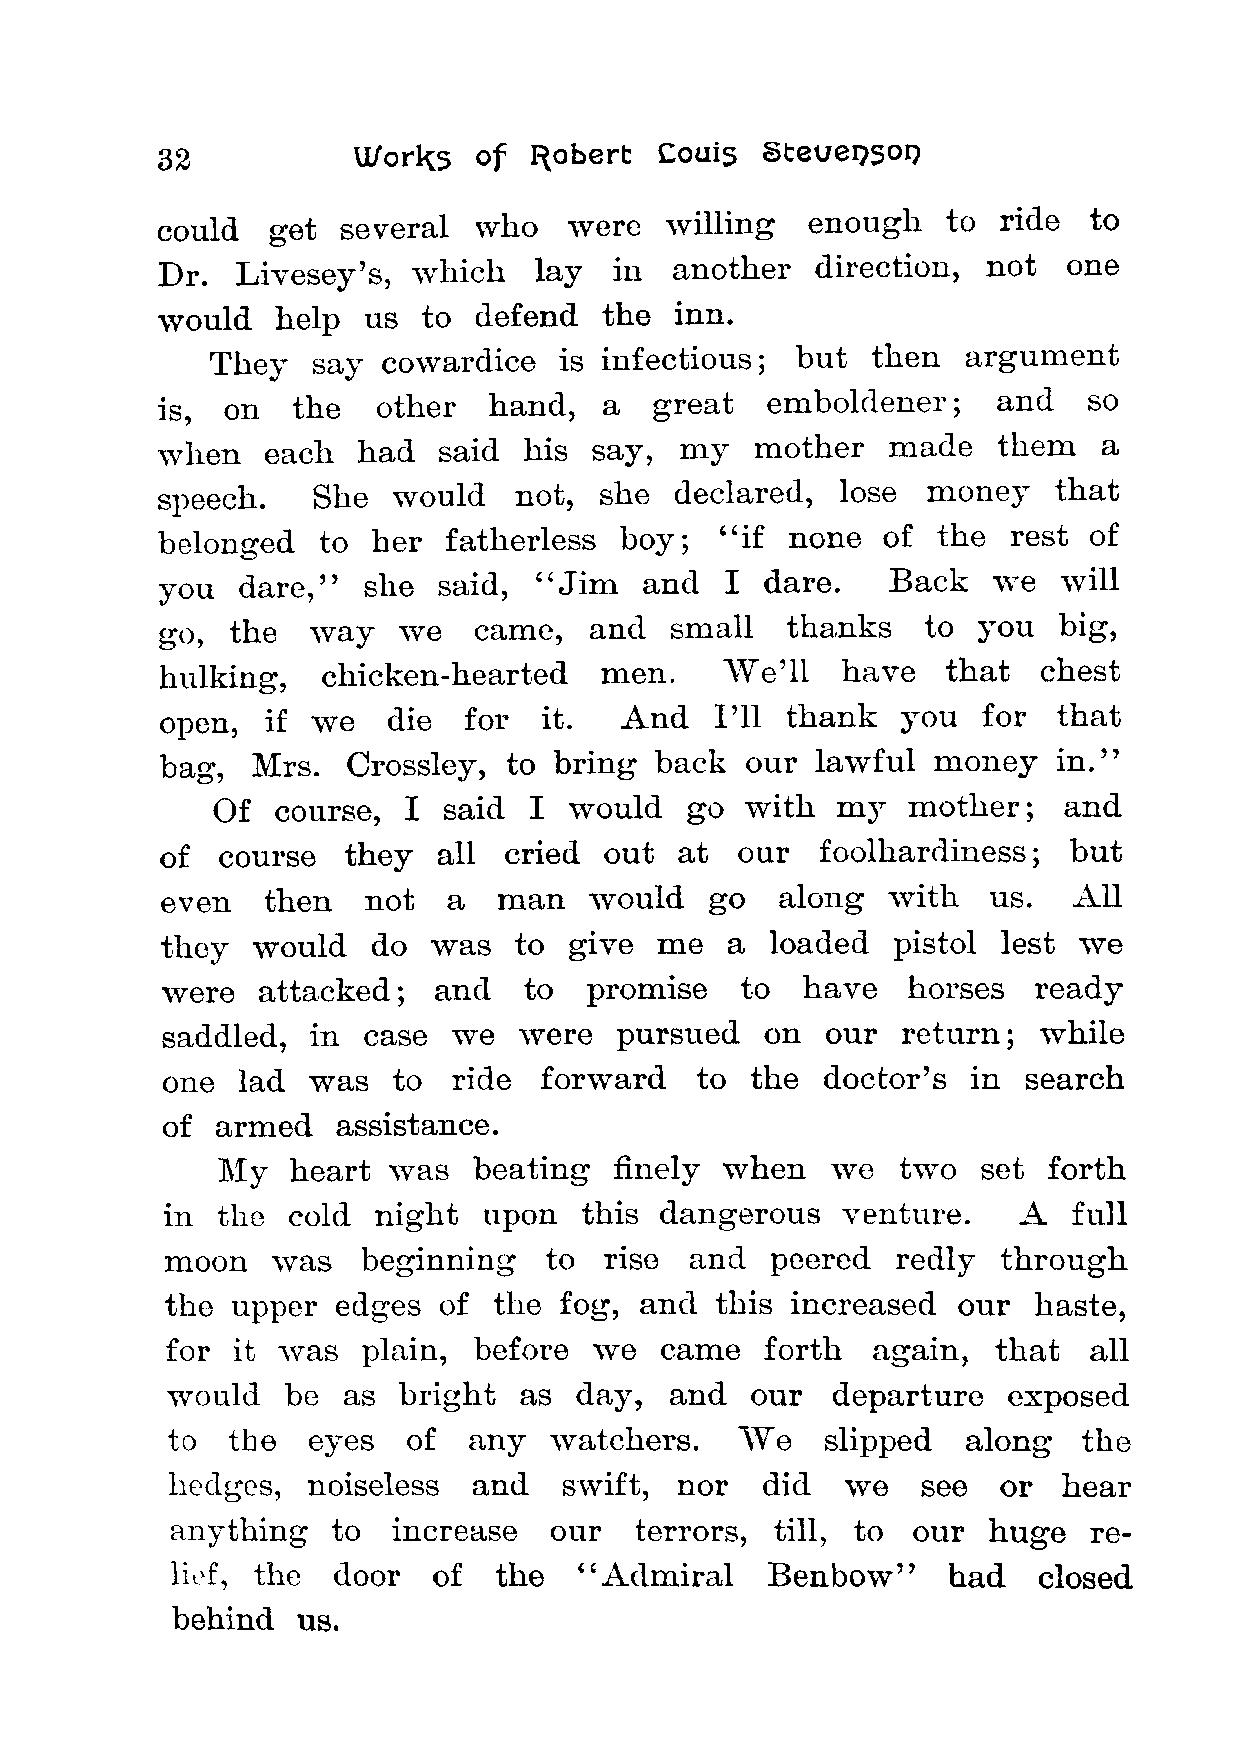content: (152, 203, 1143, 1643)
content_chapter: (346, 136, 925, 174)
content_pagenumber: (157, 136, 197, 178)
